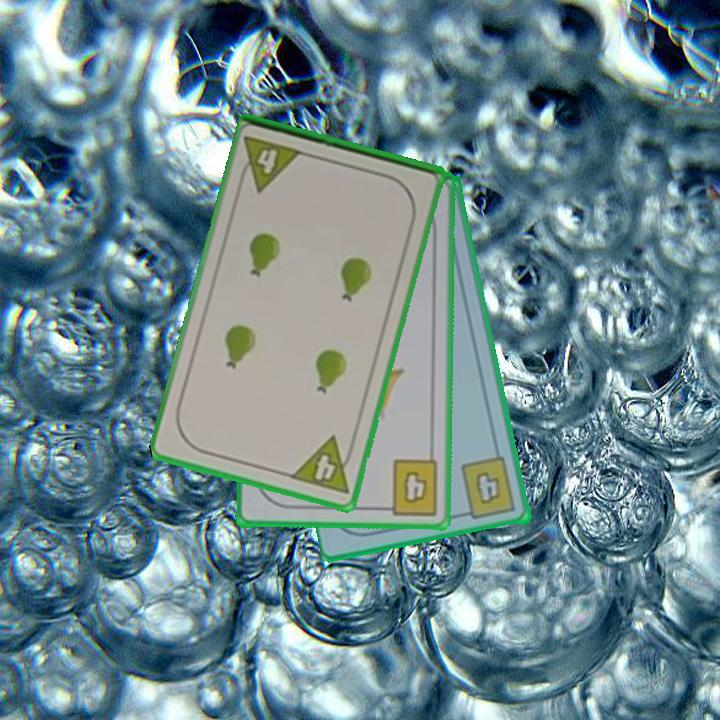4b: (457, 454, 519, 523), (377, 456, 442, 518)
4p: (287, 432, 359, 498), (234, 132, 307, 195)
